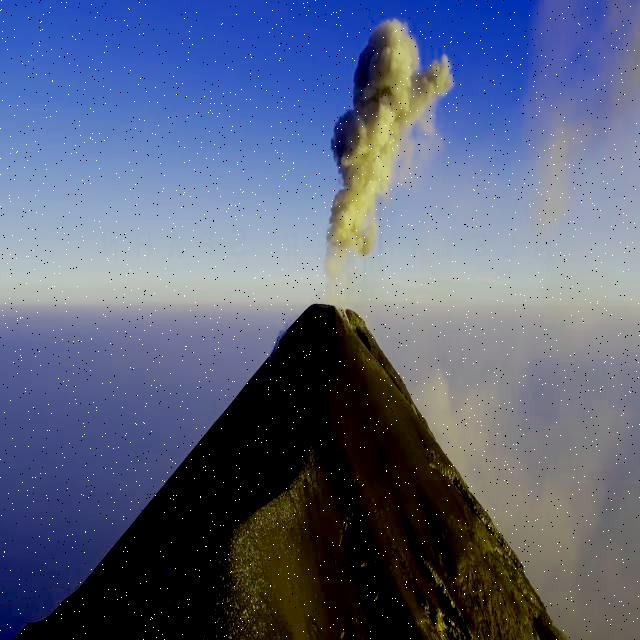Plume: (282, 14, 462, 292)
Summit: (0, 301, 633, 640)
